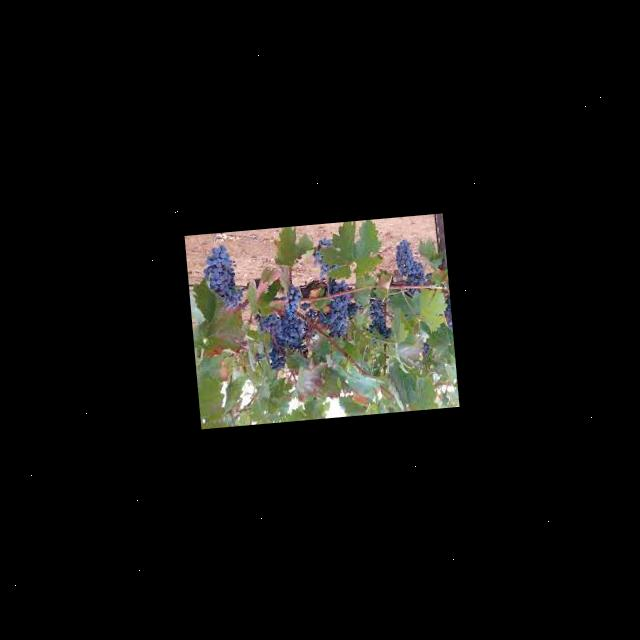grape: (200, 243, 243, 310), (392, 237, 426, 296), (364, 295, 392, 341)
